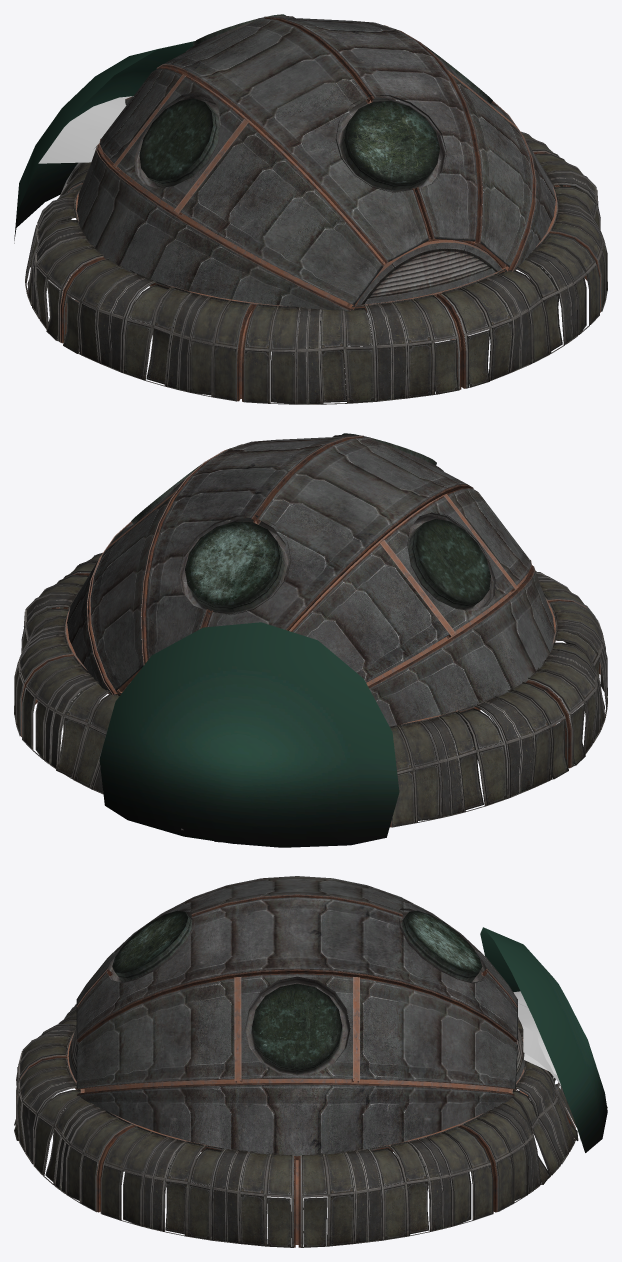
File: 01_02_comm_room_roof_pplant_broken.dae
3 views of the same model, one above another, from view 1: azimuth 30°, elevation 25°; view 2: azimuth 150°, elevation 25°; view 3: azimuth 270°, elevation 25° (orthographic). The views are drawn at different scales.
Parts seen in each view (by area): view 1: top_plates_low_windows, buckled1, windows, top_girders_windows, outside, girders, alpha_bits__2_; view 2: top_plates_low_windows, outside, buckled1, windows, top_girders_windows, girders; view 3: top_plates_low_windows, buckled1, windows, outside, top_girders_windows, girders, alpha_bits__2_.
Part boxes in pixels (x1,y1,x2,y2): top_plates_low_windows: (76,16,555,311); buckled1: (25,131,607,404); windows: (134,14,496,192); top_girders_windows: (96,16,536,310); outside: (14,41,194,243); girders: (55,151,600,401); alpha_bits__2_: (38,96,133,193); top_plates_low_windows: (67,435,554,726); outside: (99,622,399,847); buckled1: (14,552,607,827); windows: (126,433,495,614); top_girders_windows: (87,435,534,695); girders: (21,572,600,827); top_plates_low_windows: (68,876,525,1156); buckled1: (14,1004,578,1247); windows: (106,894,488,1075); outside: (480,927,607,1152); top_girders_windows: (76,894,517,1095); girders: (17,1033,575,1247); alpha_bits__2_: (513,991,580,1140).
Size of the model in its own units: 15.91 by 7.86 by 16.69.
